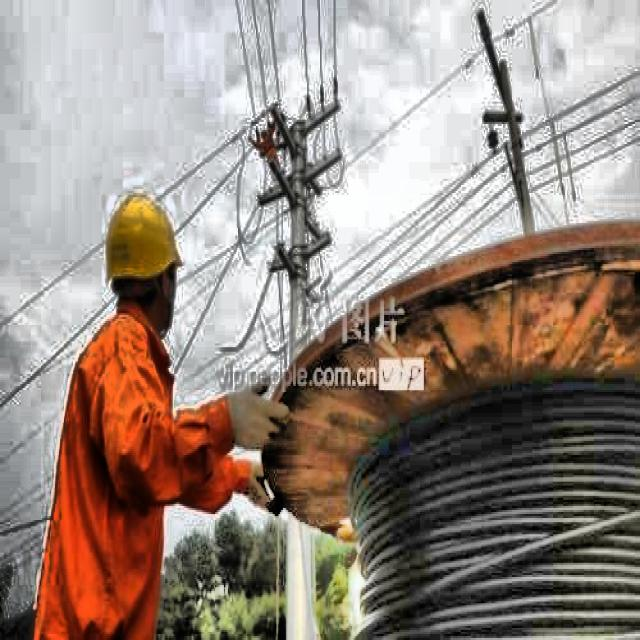helmet: (102, 179, 184, 343)
